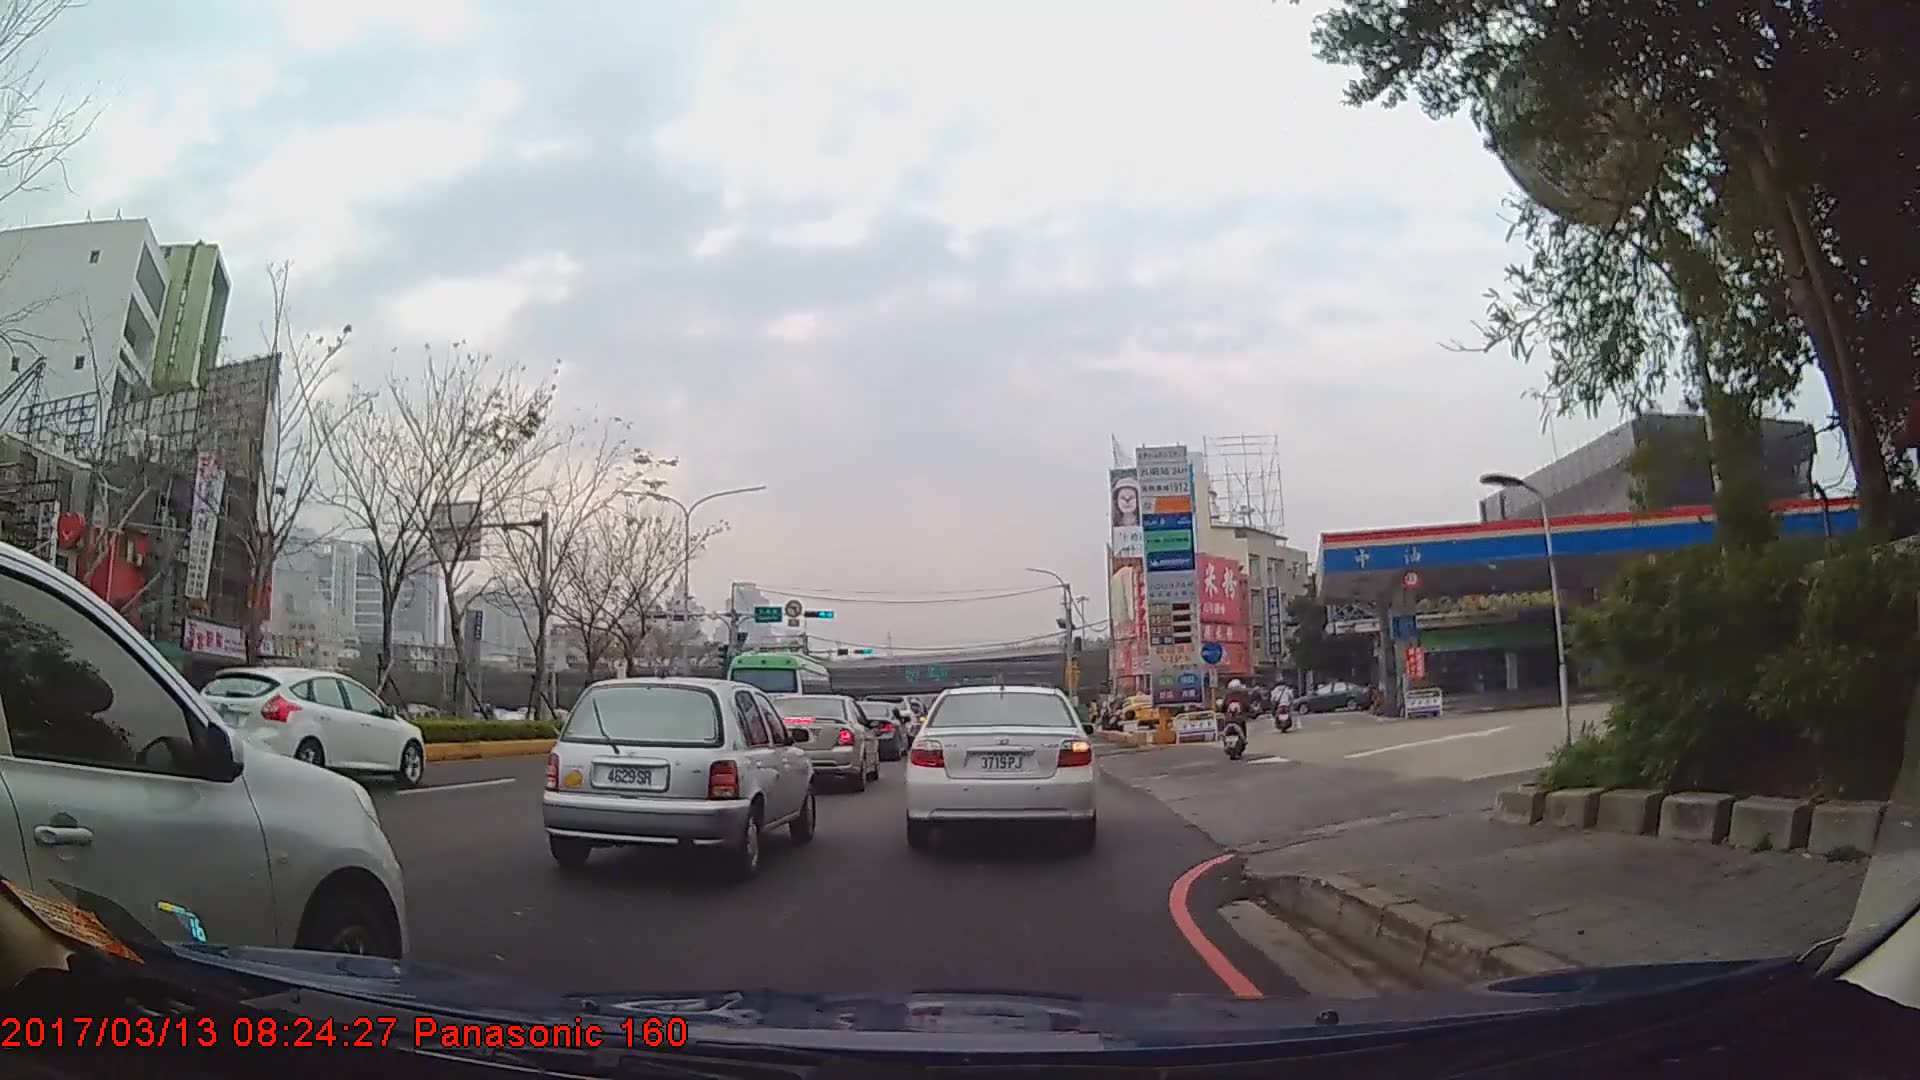rider: (1218, 675, 1252, 757), (1270, 678, 1296, 732)
vehicle: (0, 541, 408, 1009), (540, 673, 818, 877), (905, 681, 1097, 850), (194, 663, 425, 788), (752, 690, 878, 789), (723, 646, 831, 739), (835, 696, 910, 761), (1295, 680, 1372, 713), (1115, 691, 1163, 725)
